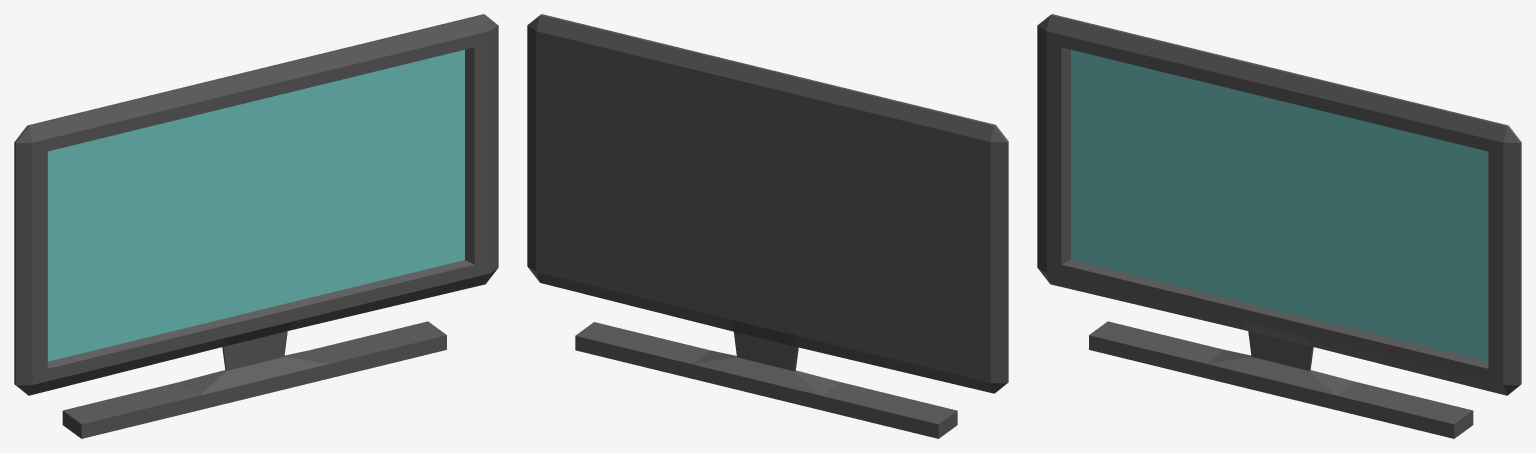
The picture shows the model from 3 angles, left to right: view 1: azimuth 30°, elevation 25°; view 2: azimuth 150°, elevation 25°; view 3: azimuth 330°, elevation 25°; orthographic projection.
Visible parts, largest first — view 1: TV; view 2: TV; view 3: TV.
Part boxes in pixels (left/top/right/bottom): TV: left=14, top=14, right=498, bottom=438; TV: left=527, top=14, right=1008, bottom=438; TV: left=1037, top=14, right=1521, bottom=438.
Bounding box in the file's own units: 375 × 236 × 25.57.
